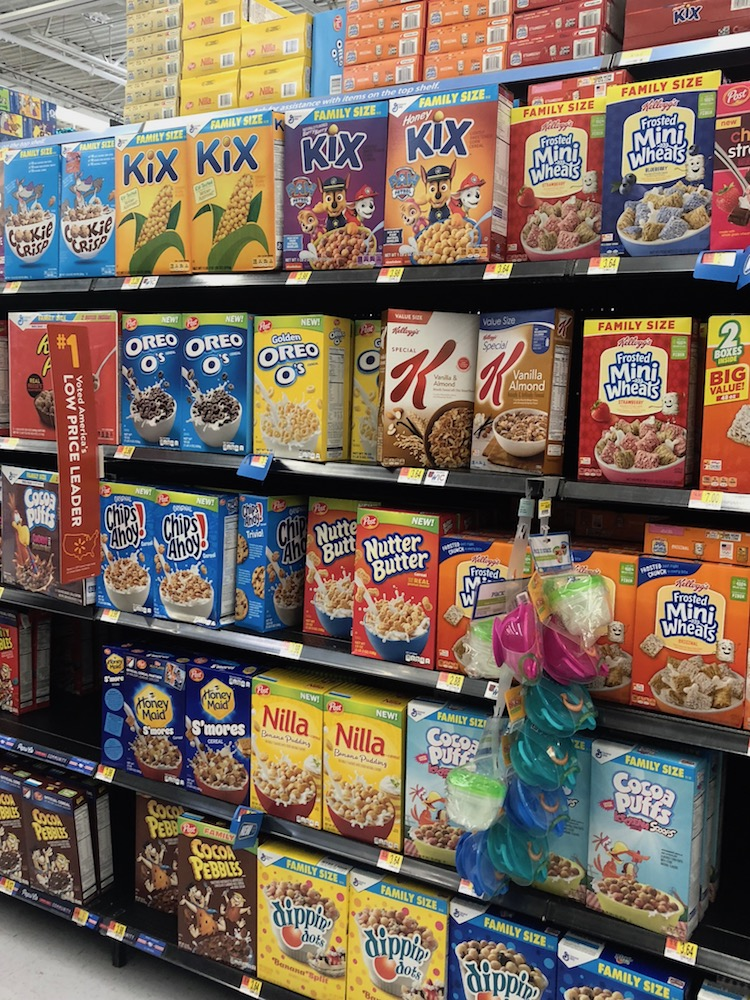Chips Ahoys-565717529: (151, 484, 233, 623), (96, 481, 166, 619)
Cocoa Puffs Ice Cream-563408546: (589, 744, 702, 936), (397, 703, 491, 863)
Dippin Dots Banana-568929376: (259, 841, 352, 1000), (346, 892, 445, 1000)
Honey Maid Graham -563424385: (99, 648, 184, 777)
Nilla -568301014: (319, 682, 405, 846), (243, 669, 326, 822)
Oreo Golden-568301011: (246, 311, 343, 464)
Oreo-563424384: (105, 308, 200, 448), (172, 315, 254, 453)
